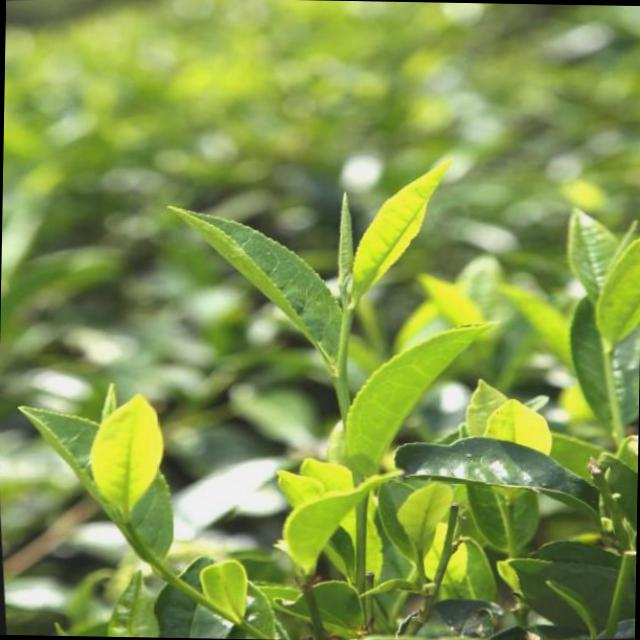Stem: (342, 306, 352, 319)
